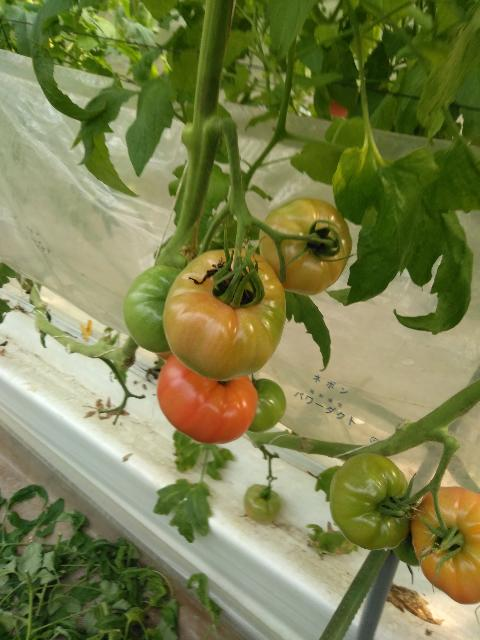b_fully_ripened: (157, 353, 258, 445)
b_green: (330, 453, 411, 550), (123, 265, 182, 353), (246, 378, 287, 434), (244, 484, 280, 524), (392, 524, 420, 566)
b_half_ripened: (162, 248, 286, 380), (258, 198, 352, 296), (410, 485, 479, 604)
